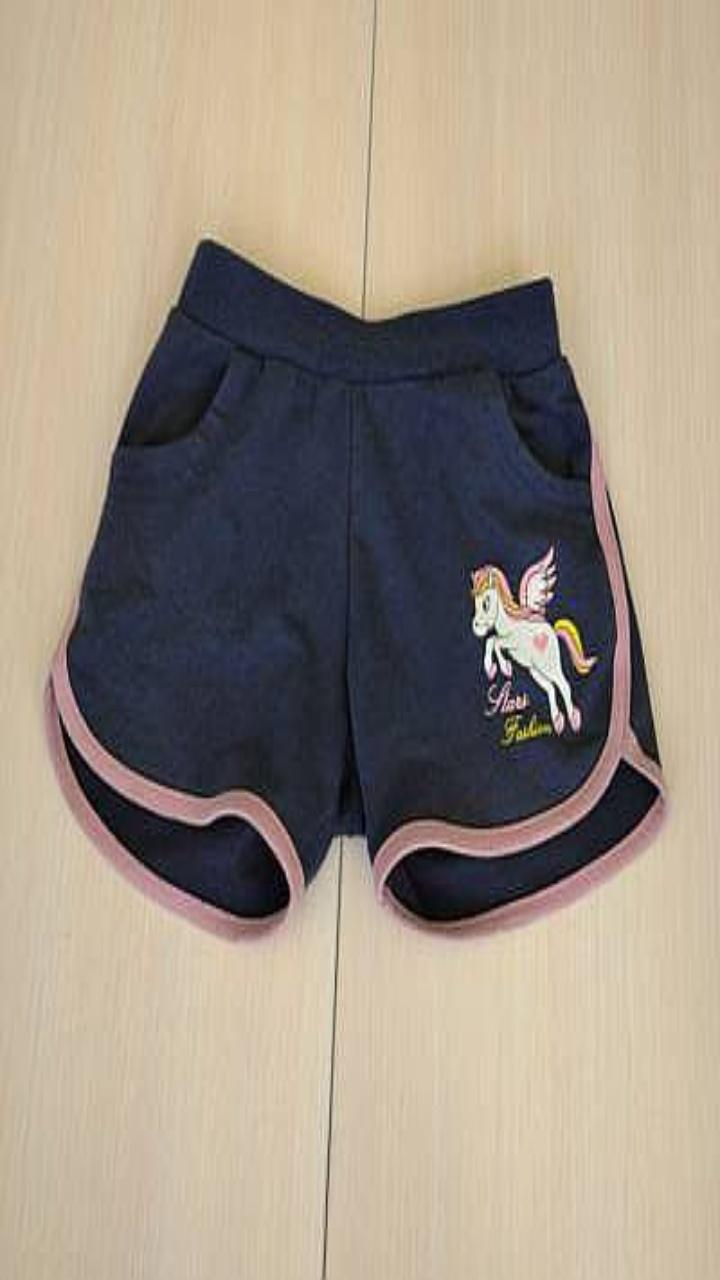Shorts: (45, 239, 664, 934)
